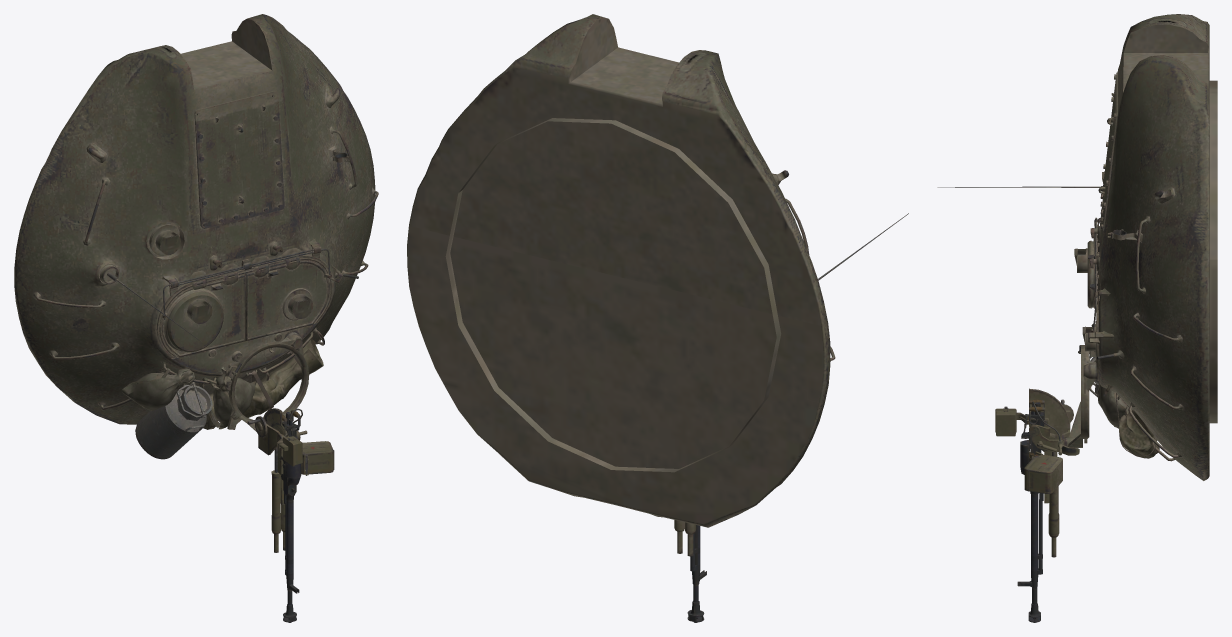
Rendered from Turret_02.glb.
3 views of the same model, side by side, from view 1: azimuth 30°, elevation 25°; view 2: azimuth 150°, elevation 25°; view 3: azimuth 270°, elevation 25° (orthographic). The views are drawn at different scales.
Parts seen in each view (by area): view 1: set_0_group_0, set_0_group_1; view 2: set_0_group_0; view 3: set_0_group_0, set_0_group_1.
Boxes of the visible parts, bbox=[...] form: set_0_group_0: bbox=[14, 14, 378, 622]; set_0_group_1: bbox=[121, 339, 323, 459]; set_0_group_0: bbox=[407, 14, 908, 622]; set_0_group_0: bbox=[937, 14, 1217, 622]; set_0_group_1: bbox=[1089, 323, 1159, 458].
Size of the model in its own units: 2.93 by 4.32 by 1.89.
2 materials, 2 textured.
